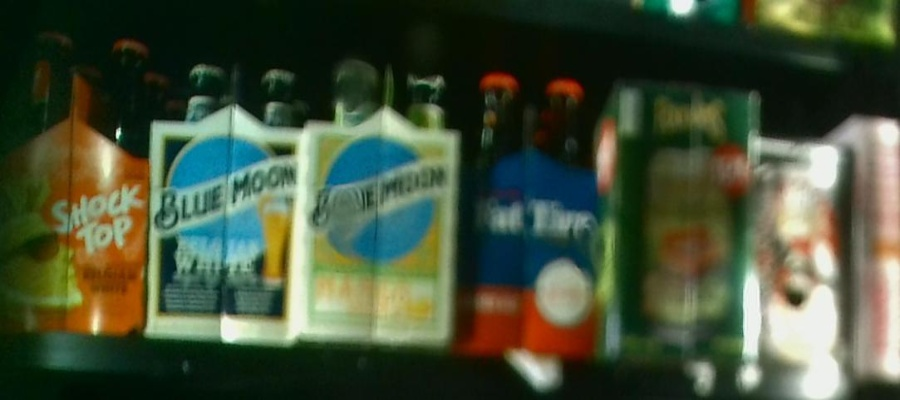bottle: (595, 78, 757, 378), (304, 65, 456, 350), (1, 37, 145, 335), (458, 67, 597, 354), (154, 67, 297, 340), (755, 132, 848, 383)
